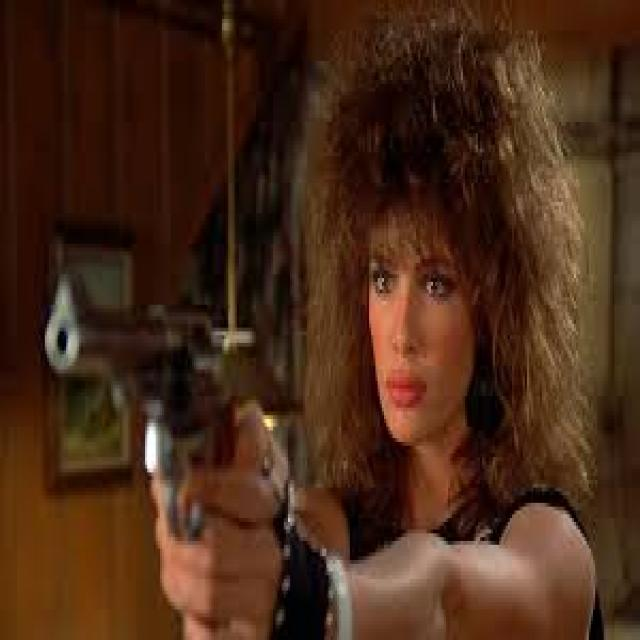weapons: (41, 249, 257, 571)
